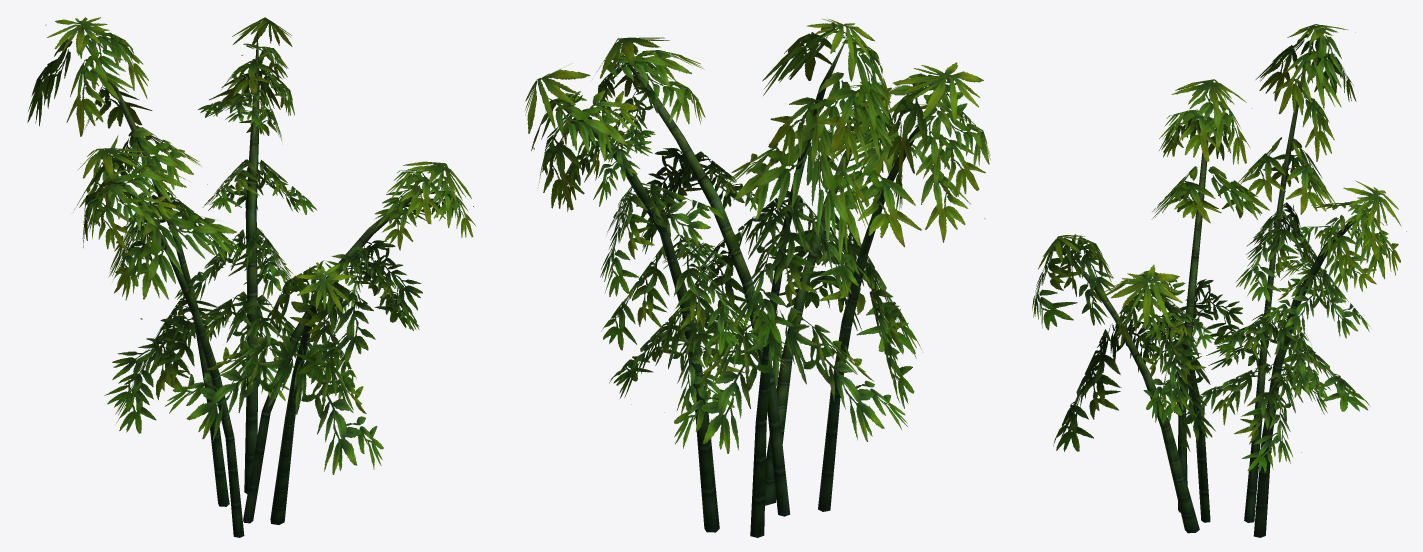
File: ZYtree_gg_zhuzi01.FBX
3 renders of one model, left to right at view 1: azimuth 30°, elevation 25°; view 2: azimuth 150°, elevation 25°; view 3: azimuth 270°, elevation 25°, orthographic. The views are drawn at different scales.
Parts seen in each view (by area): view 1: ZYtree_gg_zhuzi01; view 2: ZYtree_gg_zhuzi01; view 3: ZYtree_gg_zhuzi01.
Boxes of the visible parts, bbox=[...] form: ZYtree_gg_zhuzi01: bbox=[27, 17, 475, 537]; ZYtree_gg_zhuzi01: bbox=[525, 18, 990, 537]; ZYtree_gg_zhuzi01: bbox=[1032, 24, 1406, 537].
Bounding box in the file's own units: 761 × 931 × 705.
